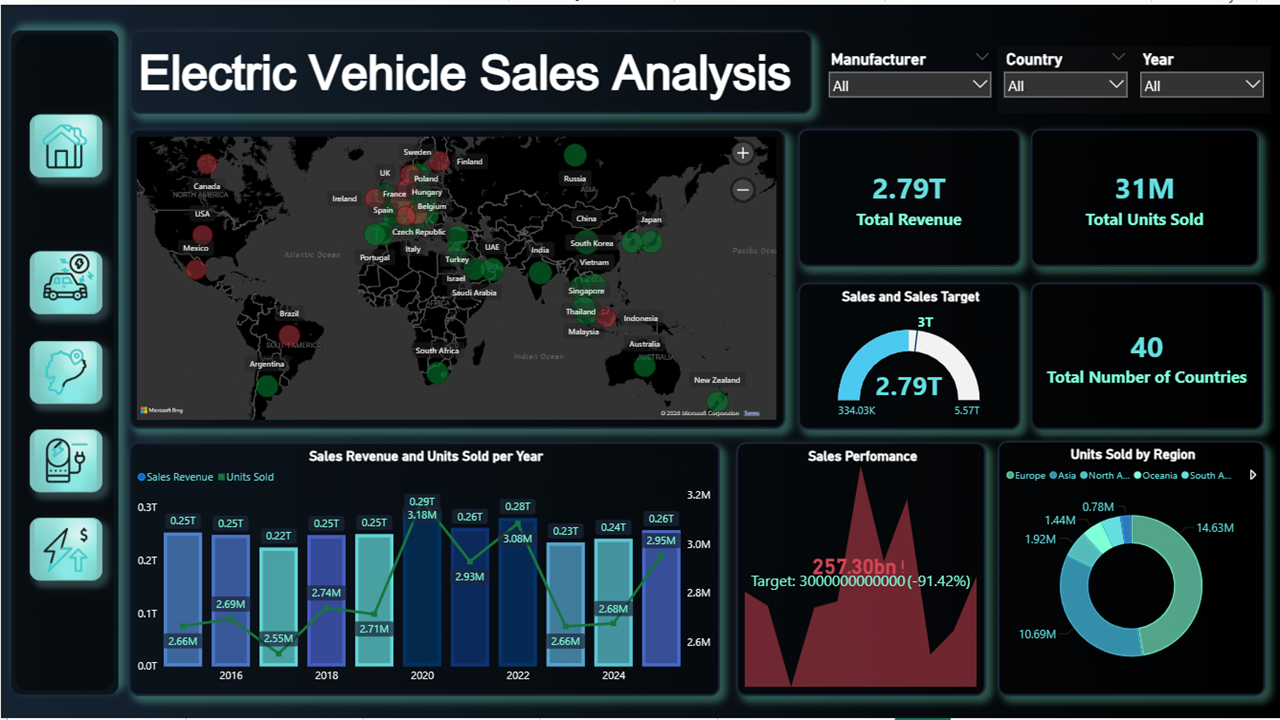

Layout of this report page (visuals, bound fields, positions):
{"tool":"powerbi","page":{"name":"REPORT PAGE 1","canvas":[1920,1080],"ordinal":0},"visuals":[{"type":"shape","box":[15.9,38.6,161.3,1006.2],"z":0,"group":"g2"},{"type":"gauge","title":"Sales and Sales Target","fields":{"Y":["Sum(electric_vehicles_dataset1.Sales_Revenue)"],"TargetValue":["_Measures.Sales Target"]},"box":[1197,420.2,333.9,222.6],"z":0},{"type":"image","box":[43.2,165.8,109,95.4],"z":1000,"group":"g2"},{"type":"kpi","title":"Sales Perfomance","fields":{"TrendLine":["electric_vehicles_dataset1.Year"],"Indicator":["Sum(electric_vehicles_dataset1.Sales_Revenue)"],"Goal":["_Measures.Sales Target"]},"box":[1103.9,663.2,374.8,383.9],"z":1000},{"type":"card","fields":{"Values":["Sum(electric_vehicles_dataset1.Sales_Revenue)"]},"box":[1197,188.5,333.9,209],"z":2000},{"type":"image","box":[43.2,372.5,109,95.4],"z":2000,"group":"g2"},{"type":"card","fields":{"Values":["Sum(electric_vehicles_dataset1.Units_Sold_2024)"]},"box":[1546.8,188.5,343,209],"z":3000},{"type":"image","box":[43.2,508.8,109,95.4],"z":3000,"group":"g2"},{"type":"image","box":[43.2,642.8,109,95.4],"z":4000,"group":"g2"},{"type":"lineStackedColumnComboChart","title":"Sales Revenue and Units Sold per Year","fields":{"Category":["electric_vehicles_dataset1.Year"],"Y":["Sum(electric_vehicles_dataset1.Sales_Revenue)"],"Y2":["Sum(electric_vehicles_dataset1.Units_Sold_2024)"]},"box":[193.1,663.2,888.1,383.9],"z":4000},{"type":"map","title":"Sales by Coutry","fields":{"Category":["electric_vehicles_dataset1.Country_of_Manufacture"],"Size":["Sum(electric_vehicles_dataset1.Sales_Revenue)"]},"box":[193.1,188.5,985.7,454.3],"z":5000},{"type":"image","box":[43.2,776.8,109,95.4],"z":5000,"group":"g2"},{"type":"slicer","fields":{"Values":["electric_vehicles_dataset1.Manufacturer"]},"box":[1233.9,62.6,263.2,101.4],"z":6000,"group":"g1"},{"type":"textbox","box":[193.5,39.1,1023.9,126.1],"z":7000},{"type":"group","id":"g1","title":"Group 1","box":[1233.9,62.6,673,101.4],"z":8000},{"type":"slicer","fields":{"Values":["electric_vehicles_dataset1.Country_of_Manufacture"]},"box":[1497.1,62.6,204.9,101.4],"z":9000,"group":"g1"},{"type":"card","fields":{"Values":["_Measures.Total Number of Countries"]},"box":[1546.8,420.2,349.8,222.6],"z":9000},{"type":"donutChart","title":"Units Sold by Region","fields":{"Category":["electric_vehicles_dataset1.Region"],"Y":["Sum(electric_vehicles_dataset1.Units_Sold_2024)"]},"box":[1496.8,661,402,386.1],"z":10000},{"type":"group","id":"g2","title":"Group 2","box":[15.9,38.6,161.3,1006.2],"z":10001},{"type":"slicer","fields":{"Values":["electric_vehicles_dataset1.Year"]},"box":[1702,62.6,204.9,101.4],"z":11000,"group":"g1"}]}

Visuals, with their boxes in screenshot pixels (x1, y1, x2, y2), scaled from the page's 1920x1080 canvas onto the 1280x720 screenshot:
shape: locate(11, 26, 118, 697)
"Sales and Sales Target" gauge: locate(798, 280, 1021, 429)
image: locate(29, 111, 101, 174)
"Sales Perfomance" kpi: locate(736, 442, 986, 698)
card - Sum(electric_vehicles_dataset1.Sales_Revenue): locate(798, 126, 1021, 265)
image: locate(29, 248, 101, 312)
card - Sum(electric_vehicles_dataset1.Units_Sold_2024): locate(1031, 126, 1260, 265)
image: locate(29, 339, 101, 403)
image: locate(29, 429, 101, 492)
"Sales Revenue and Units Sold per Year" lineStackedColumnComboChart: locate(129, 442, 721, 698)
"Sales by Coutry" map: locate(129, 126, 786, 429)
image: locate(29, 518, 101, 581)
slicer - electric_vehicles_dataset1.Manufacturer: locate(823, 42, 998, 109)
textbox: locate(129, 26, 812, 110)
"Group 1" group: locate(823, 42, 1271, 109)
slicer - electric_vehicles_dataset1.Country_of_Manufacture: locate(998, 42, 1135, 109)
card - _Measures.Total Number of Countries: locate(1031, 280, 1264, 429)
"Units Sold by Region" donutChart: locate(998, 441, 1266, 698)
"Group 2" group: locate(11, 26, 118, 697)
slicer - electric_vehicles_dataset1.Year: locate(1135, 42, 1271, 109)
